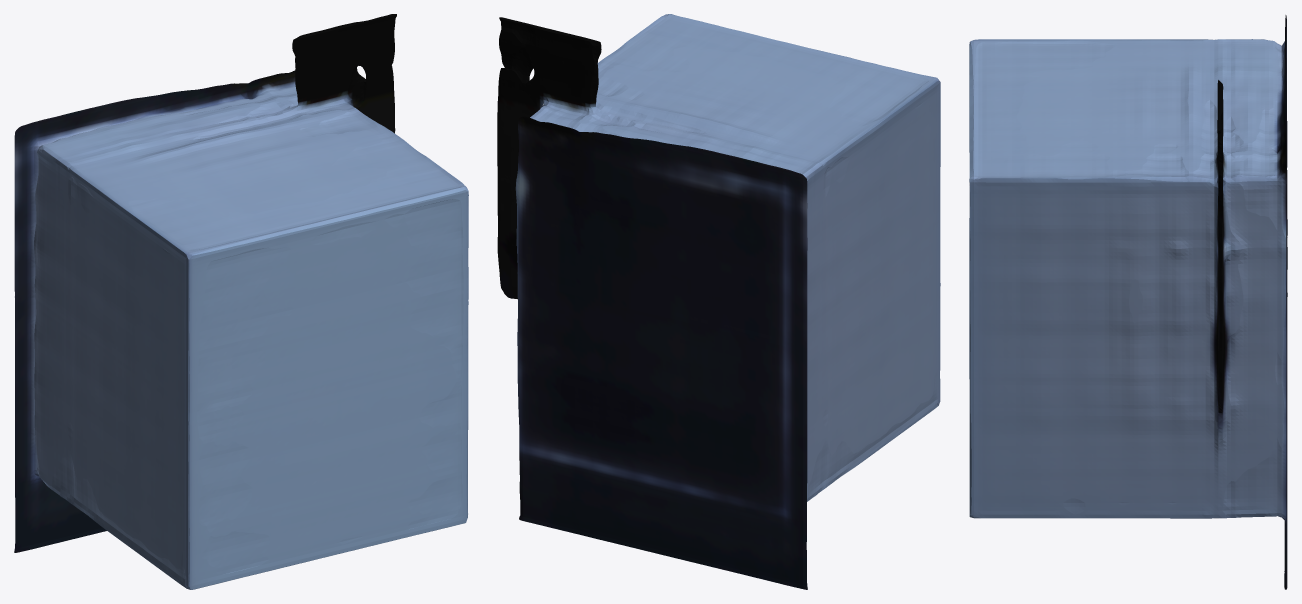
3 renders of one model, left to right at view 1: azimuth 30°, elevation 25°; view 2: azimuth 150°, elevation 25°; view 3: azimuth 270°, elevation 25°, orthographic. The views are drawn at different scales.
Visible parts, largest first — view 1: model.ply; view 2: model.ply; view 3: model.ply.
Boxes of the visible parts, left/top/right/bottom form: model.ply: left=14, top=14, right=468, bottom=589; model.ply: left=497, top=14, right=940, bottom=589; model.ply: left=969, top=15, right=1287, bottom=589.
Bounding box in the file's own units: 1.51 × 1.98 × 1.17.
